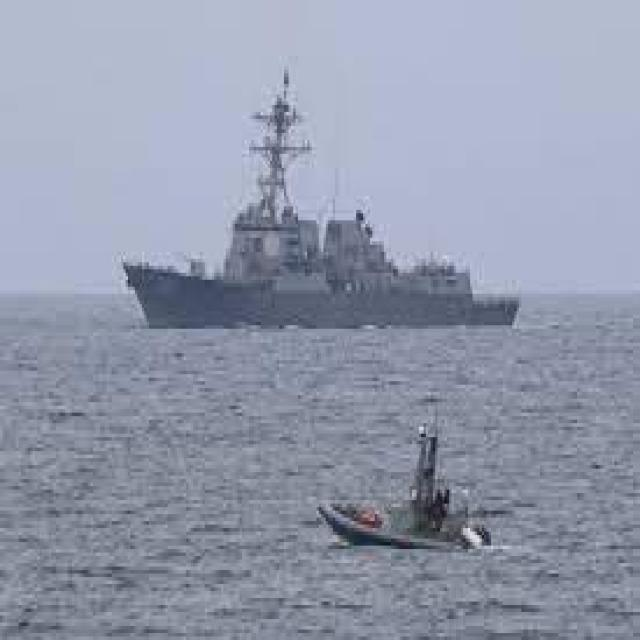fishing boat: (304, 410, 496, 568)
navalvessels: (117, 66, 527, 356)
